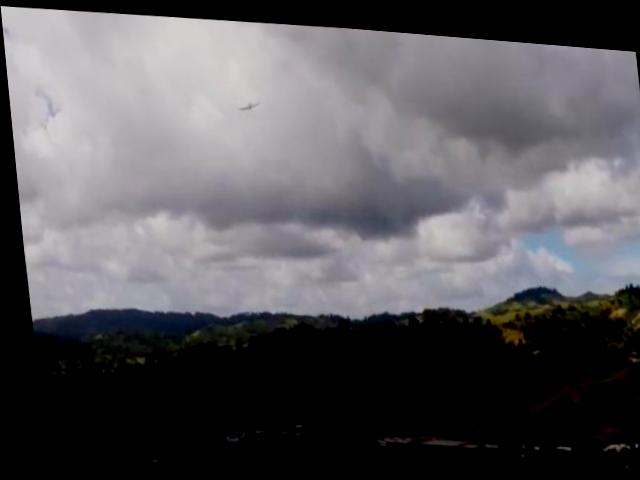iha: (234, 93, 264, 112)
